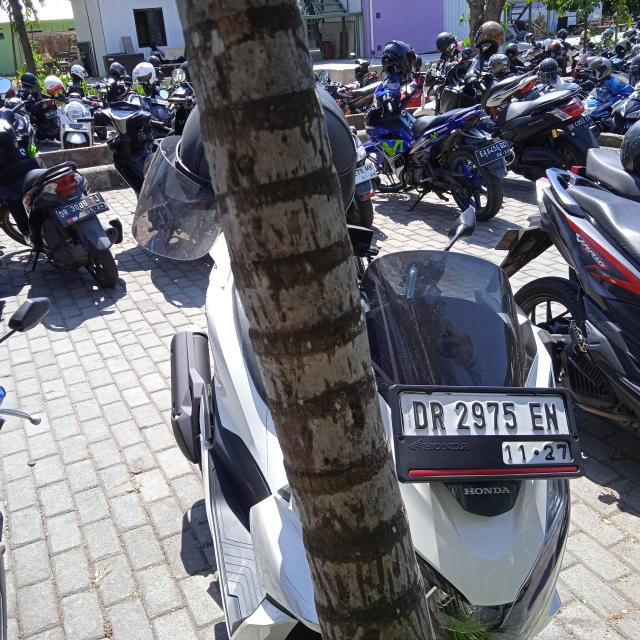plate: (394, 386, 580, 480), (55, 191, 110, 228), (474, 139, 513, 167)
